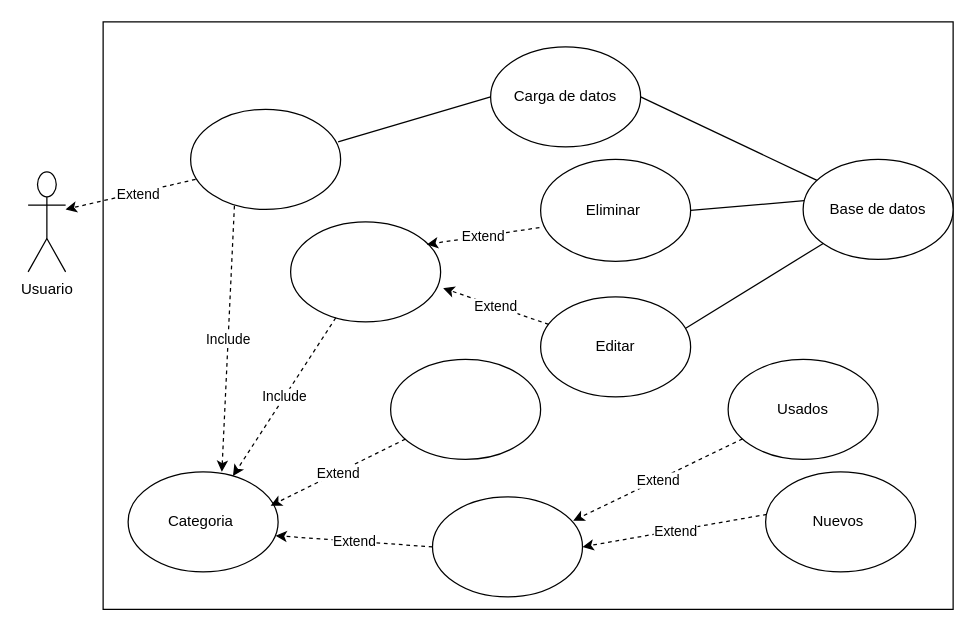
This 975x641 diagram has some shape labels left out. Each missing label, with the centre of its shape:
"Agregar" goes at point (265, 158).
"Celulares" goes at point (506, 546).
"Notebooks o tablets" goes at point (465, 408).
"Producto" goes at point (365, 271).
